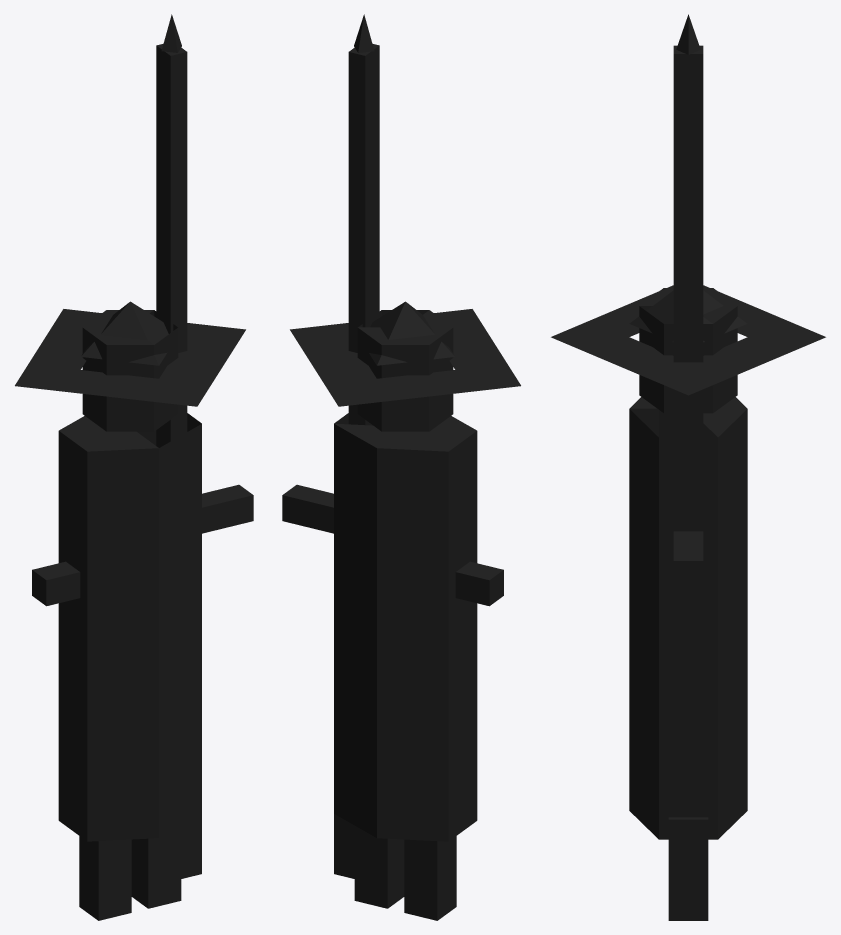
File: musketeer_lowpoly.obj
3 views of the same model, side by side, from view 1: azimuth 30°, elevation 25°; view 2: azimuth 150°, elevation 25°; view 3: azimuth 270°, elevation 25° (orthographic). The views are drawn at different scales.
Visible parts, largest first — view 1: musketeer_lowpoly; view 2: musketeer_lowpoly; view 3: musketeer_lowpoly.
Boxes of the visible parts, <box> form: musketeer_lowpoly: <box>15,14,253,920</box>; musketeer_lowpoly: <box>282,14,520,920</box>; musketeer_lowpoly: <box>551,14,825,920</box>.
Bounding box in the file's own units: 0.56 × 2.03 × 0.56.
Materials: 1 (1 with a texture image).
